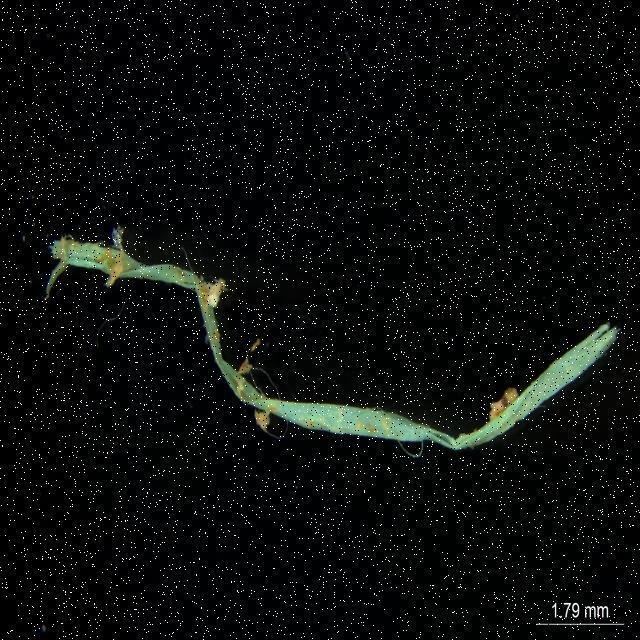Fibre: (46, 230, 622, 458)
